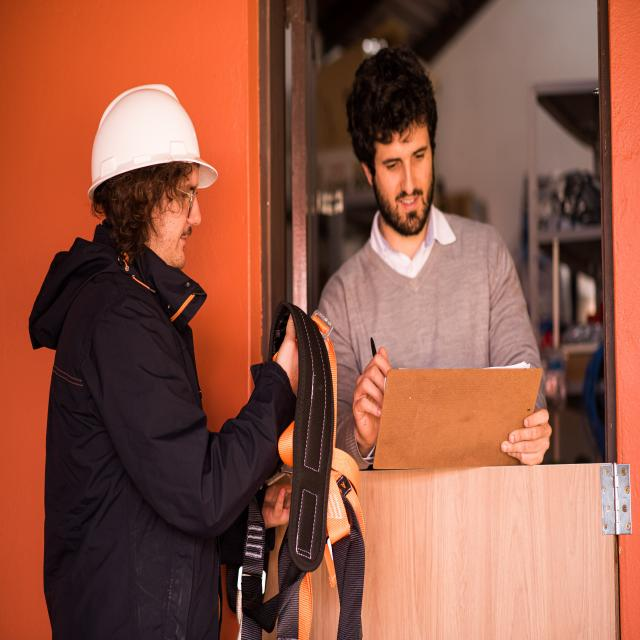capacete: (83, 77, 223, 196)
